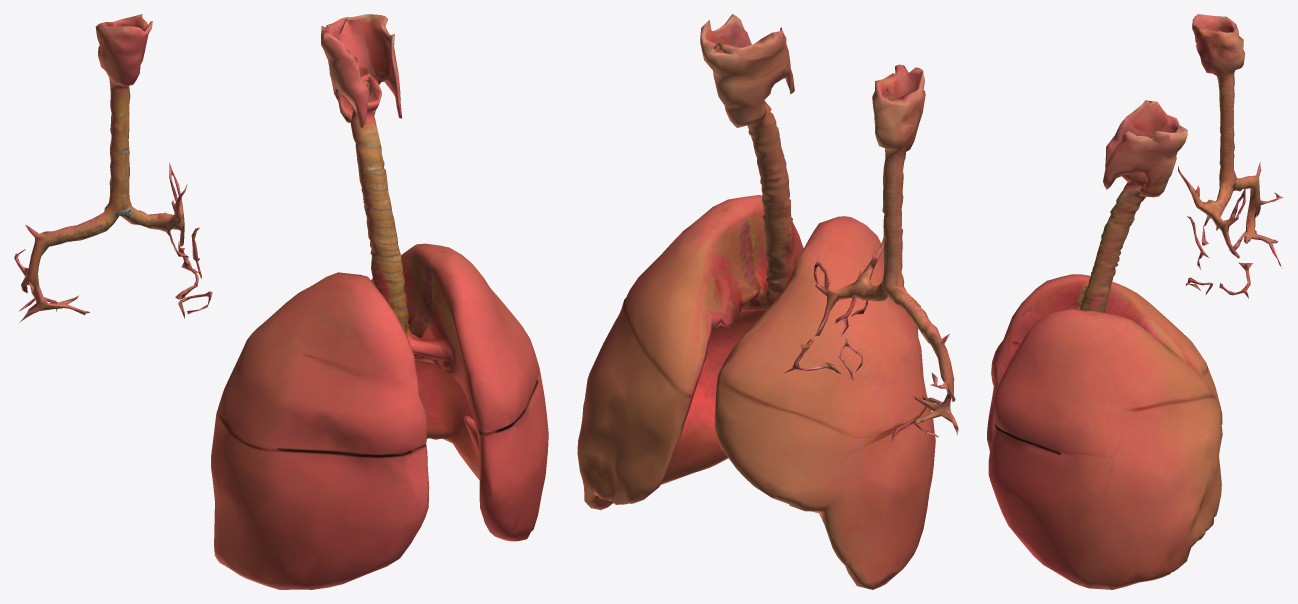
File: partesPulmon.glb
3 renders of one model, left to right at view 1: azimuth 30°, elevation 25°; view 2: azimuth 150°, elevation 25°; view 3: azimuth 270°, elevation 25°, orthographic. The views are drawn at different scales.
Parts seen in each view (by area): view 1: Mesh1; view 2: Mesh1; view 3: Mesh1.
Boxes of the visible parts, <box> form: Mesh1: <box>14,14,548,589</box>; Mesh1: <box>577,14,958,589</box>; Mesh1: <box>987,14,1283,589</box>.
Size of the model in its own units: 1.5 by 1.79 by 1.09.
Materials: 1 (1 with a texture image).
